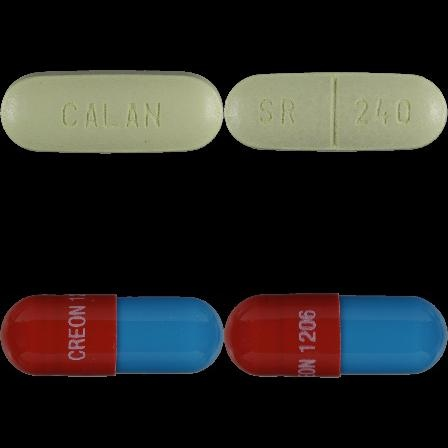0025-1891: (0, 0, 224, 224)
